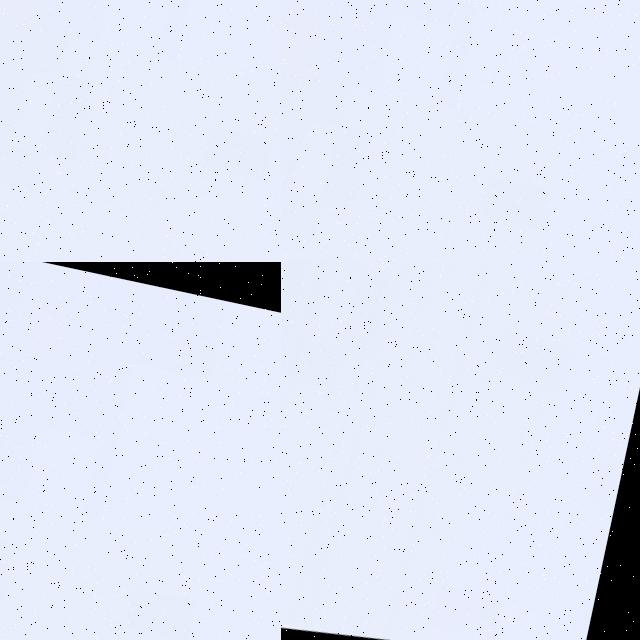drone: (281, 262, 640, 640)
